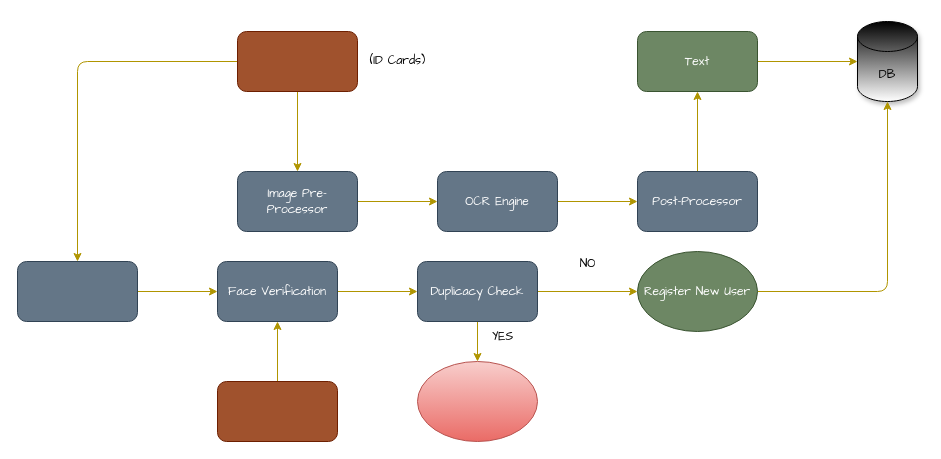
Image size: 941x459. Some labels were removed from this diagram. Here are the shapes that lost their labels. From the top down, the centre of each, then its label:
the point at 297,61: Input Image
the point at 77,291: Face Extractor
the point at 277,411: Upload Face Image
the point at 477,401: Already Exists
